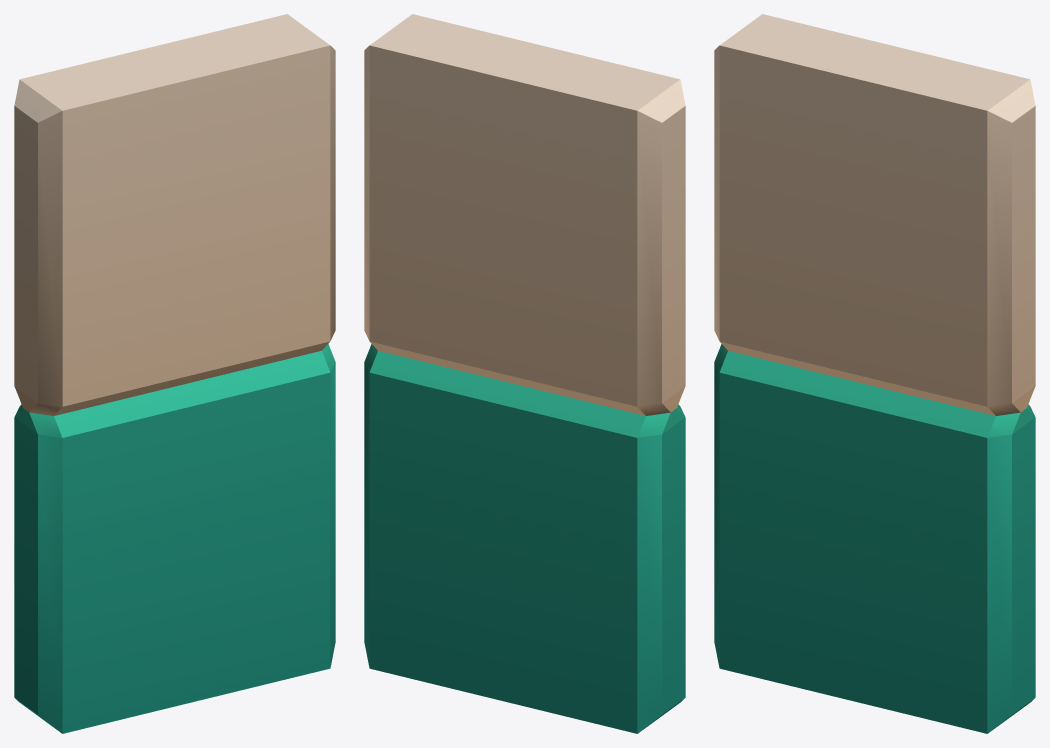
File: wall_half.obj
3 views of the same model, side by side, from view 1: azimuth 30°, elevation 25°; view 2: azimuth 150°, elevation 25°; view 3: azimuth 330°, elevation 25° (orthographic).
Parts seen in each view (by area): view 1: wall_half_Cube.151; view 2: wall_half_Cube.151; view 3: wall_half_Cube.151.
Boxes of the visible parts, x1,y1,x2,y2 form: wall_half_Cube.151: (14,14,335,733); wall_half_Cube.151: (364,14,685,733); wall_half_Cube.151: (714,14,1035,733).
Size of the model in its own units: 2 by 4 by 0.5.
Materials: 1 (1 with a texture image).
